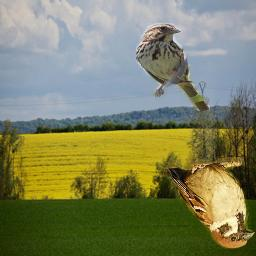Sparrow: (166, 157, 256, 249), (136, 23, 210, 111)
